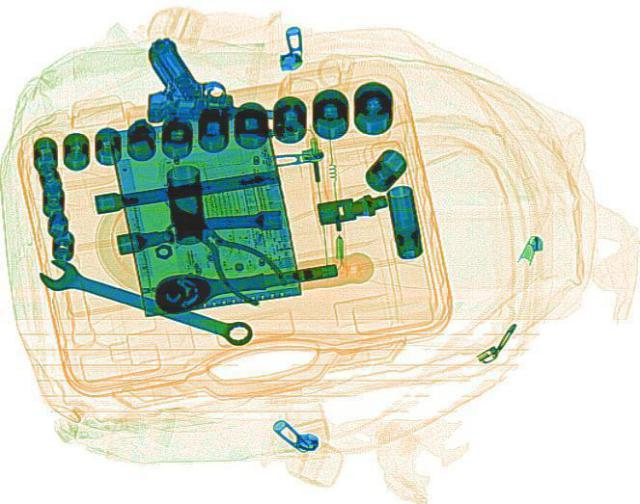Gun: (140, 36, 304, 125)
Pliers: (153, 197, 297, 307)
Wrench: (32, 254, 260, 350)
